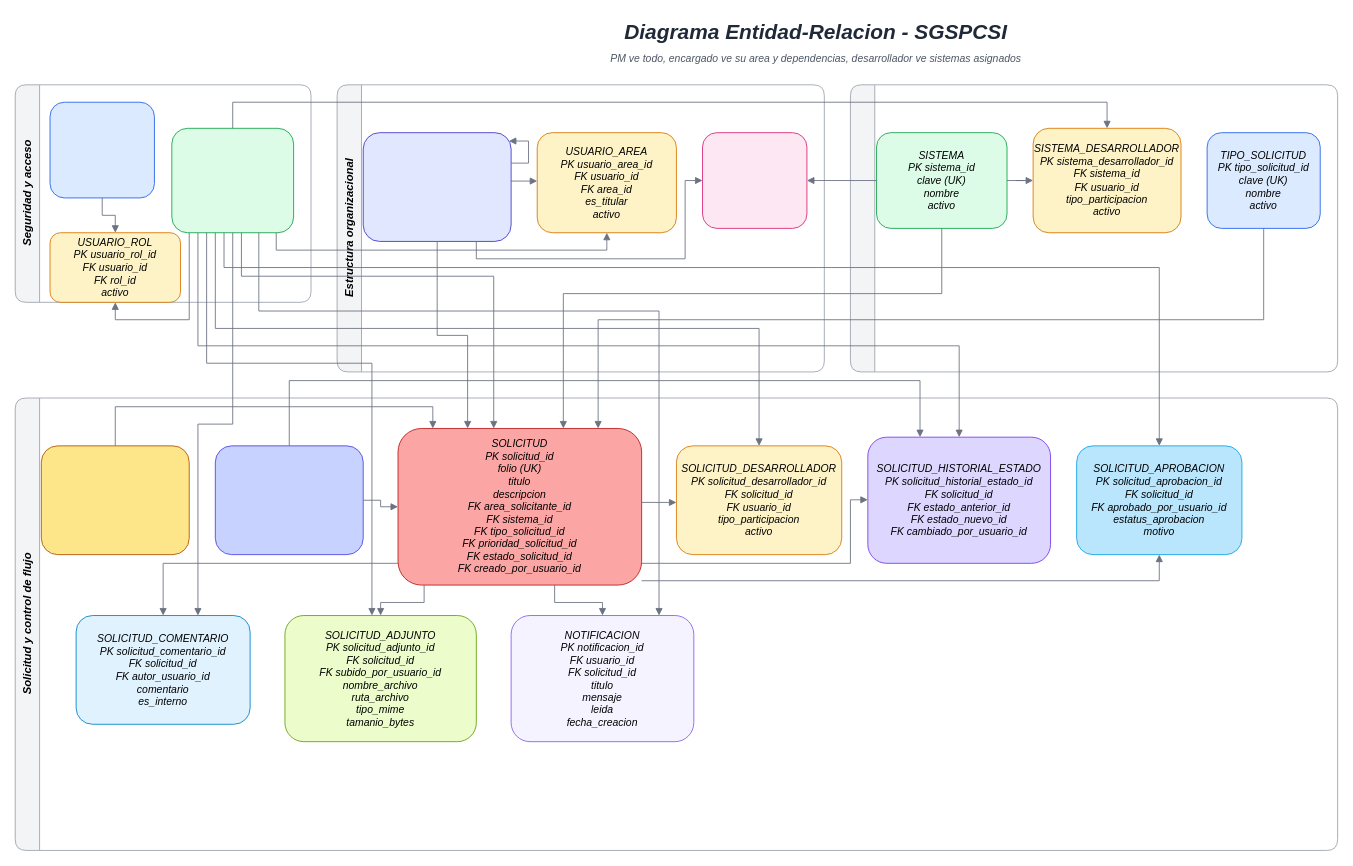
This 1353x866 diagram has some shape labels left out. Here are the shapes that lost their labels. From the top down, the box of each, then its label:
(49, 101, 154, 198): ROL PK rol_id clave (UK) nombre activo
(171, 127, 294, 233): USUARIO PK usuario_id nombre correo_institucional (UK) puesto activo
(362, 132, 511, 241): AREA PK area_id FK area_padre_id nombre (UK) tipo_area nivel activa
(702, 132, 807, 228): AREA_SISTEMA PK area_sistema_id FK area_id FK sistema_id activo
(850, 84, 1338, 372): Sistemas y visibilidad
(40, 445, 189, 555): PRIORIDAD_SOLICITUD PK prioridad_solicitud_id clave (UK) nombre peso activo
(214, 445, 363, 555): ESTADO_SOLICITUD PK estado_solicitud_id clave (UK) nombre es_terminal activo
